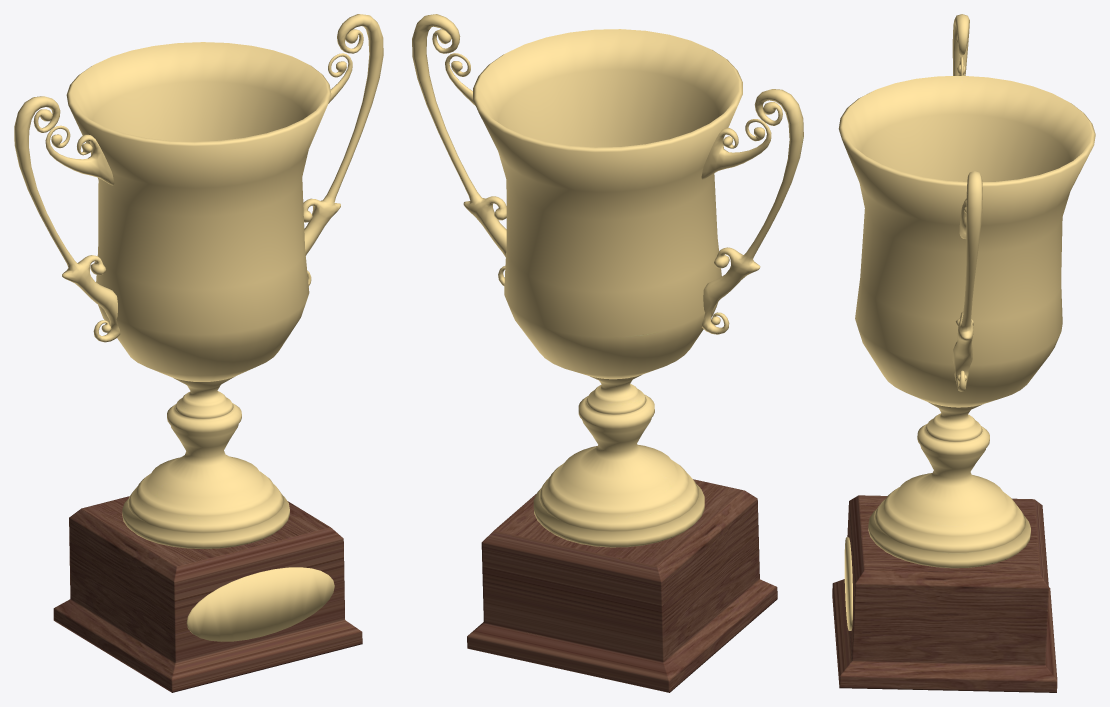
The model's file is golden_trophy.glb.
3 views of the same model, side by side, from view 1: azimuth 30°, elevation 25°; view 2: azimuth 150°, elevation 25°; view 3: azimuth 270°, elevation 25° (orthographic). The views are drawn at different scales.
Visible parts, largest first — view 1: trophy_0; view 2: trophy_0; view 3: trophy_0.
Part boxes in pixels (x1,y1,x2,y2): trophy_0: (14,14,383,692); trophy_0: (412,14,803,692); trophy_0: (832,14,1095,692).
Bounding box in the file's own units: 3.79 × 5.55 × 2.38.
Materials: 1 (1 with a texture image).
